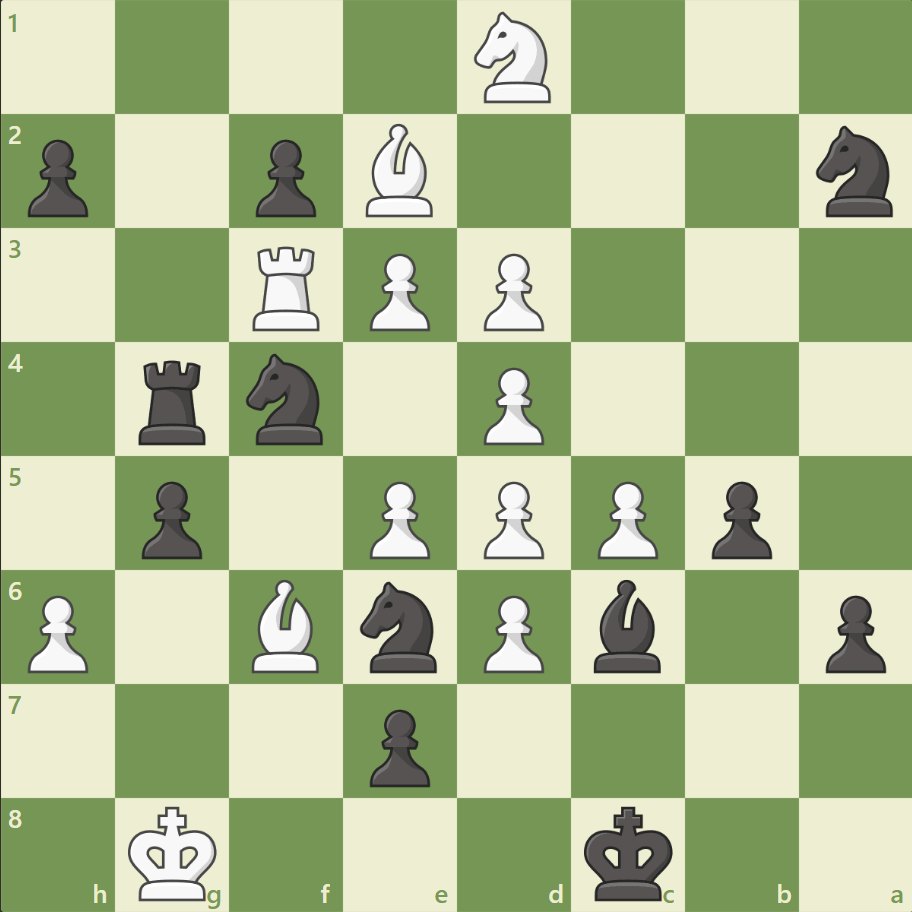B: (244, 574, 328, 676), (358, 120, 442, 222)
K: (124, 798, 224, 906)
N: (465, 7, 562, 110)
P: (474, 586, 549, 677), (20, 586, 95, 677), (474, 473, 549, 564), (474, 359, 549, 450), (474, 246, 549, 337), (588, 473, 662, 564), (361, 473, 435, 564), (361, 246, 435, 337)
R: (246, 239, 329, 336)
b: (585, 574, 669, 676)
k: (579, 798, 679, 906)
n: (351, 575, 449, 677), (238, 348, 335, 450), (806, 121, 903, 223)
p: (701, 473, 776, 564), (133, 473, 208, 564), (247, 132, 322, 223), (20, 132, 95, 223), (361, 700, 435, 791), (815, 586, 889, 677)
r: (133, 352, 215, 449)
